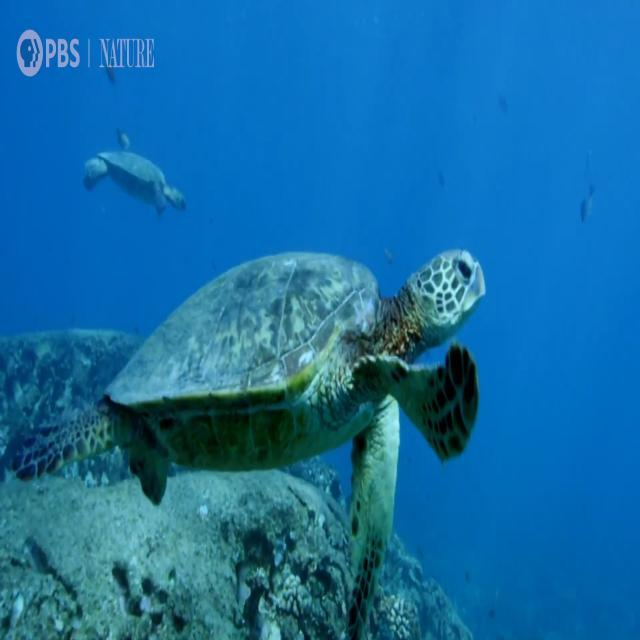Green-Sea-Turtle -Endangered-: (12, 246, 486, 640), (85, 128, 185, 220)
